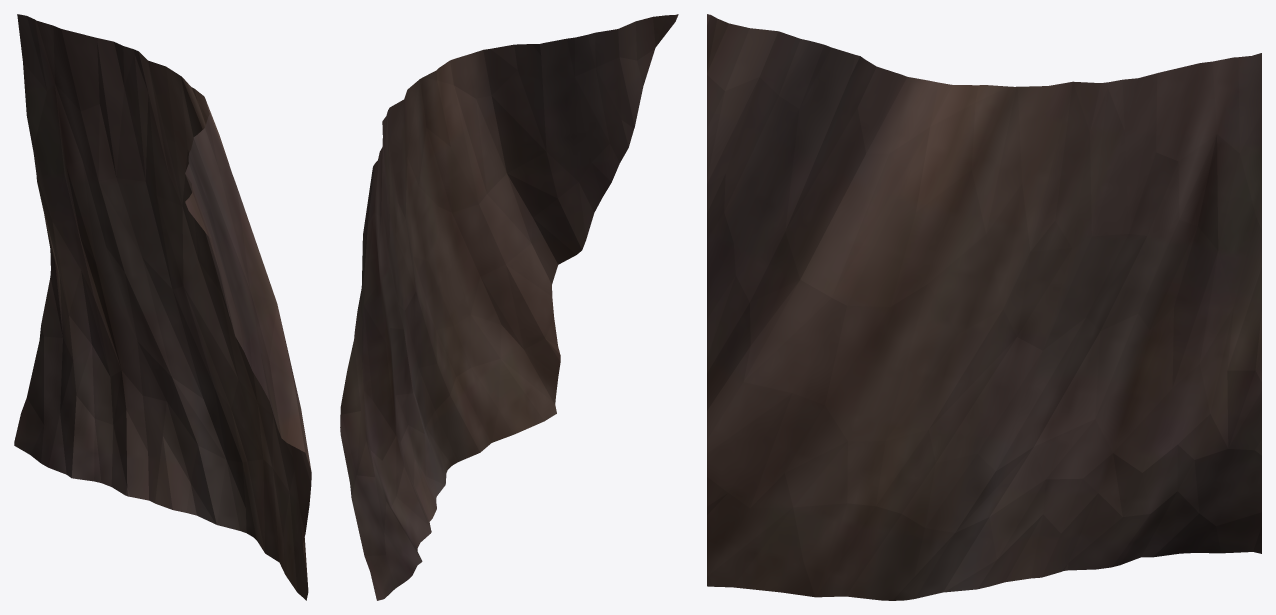
The picture shows the model from 3 angles, left to right: view 1: azimuth 30°, elevation 25°; view 2: azimuth 150°, elevation 25°; view 3: azimuth 270°, elevation 25°; orthographic projection. The views are drawn at different scales.
Visible parts, largest first — view 1: 091_W_Aya_100K_01; view 2: 091_W_Aya_100K_01; view 3: 091_W_Aya_100K_01.
Part boxes in pixels (x1,y1,x2,y2): 091_W_Aya_100K_01: (14,14,311,600); 091_W_Aya_100K_01: (340,14,678,600); 091_W_Aya_100K_01: (707,14,1261,600).
Size of the model in its own units: 15.71 by 42.87 by 42.87.
1 material, 1 textured.
